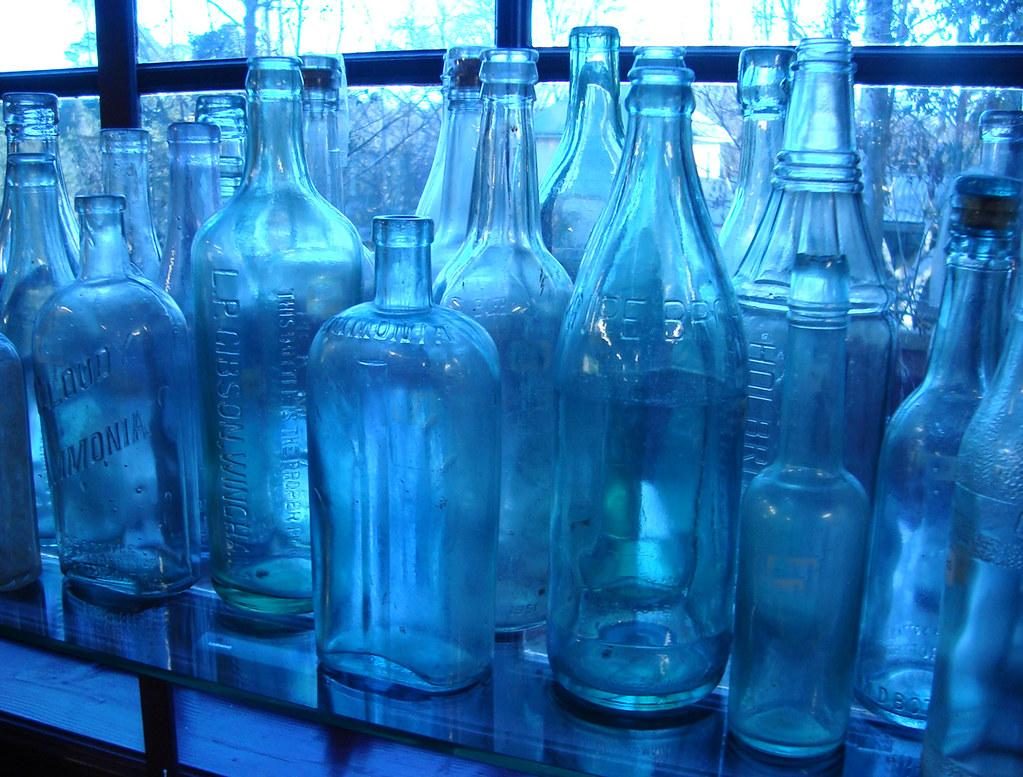bottle: (547, 61, 750, 715), (190, 55, 368, 629), (850, 173, 1023, 735), (306, 214, 503, 696), (434, 48, 575, 636), (731, 37, 897, 508), (727, 251, 872, 763), (31, 193, 202, 608), (920, 304, 1023, 777), (1, 153, 80, 555), (539, 26, 628, 284), (925, 109, 1023, 328), (415, 46, 492, 284), (718, 47, 797, 278), (1, 92, 83, 279), (158, 122, 224, 326), (1, 332, 43, 594), (100, 128, 164, 286), (297, 54, 349, 215), (195, 94, 248, 206)
